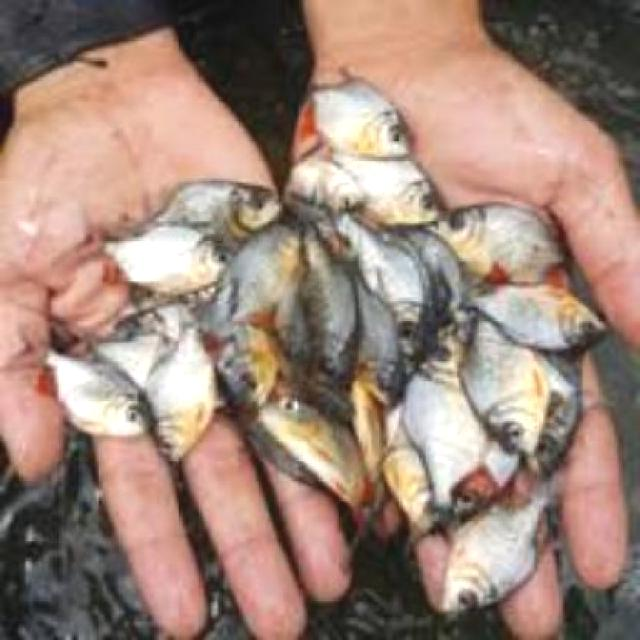ikan-pacu: (468, 320, 547, 456), (451, 192, 564, 282), (313, 73, 404, 164)
